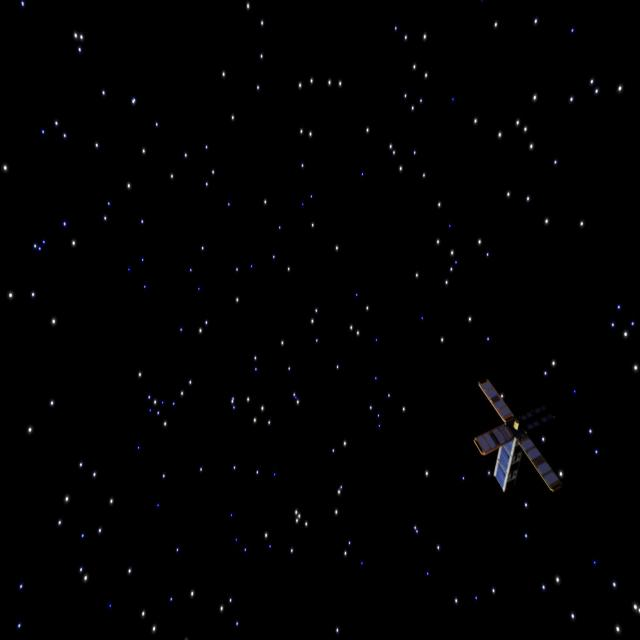satellite: (474, 373, 556, 504)
